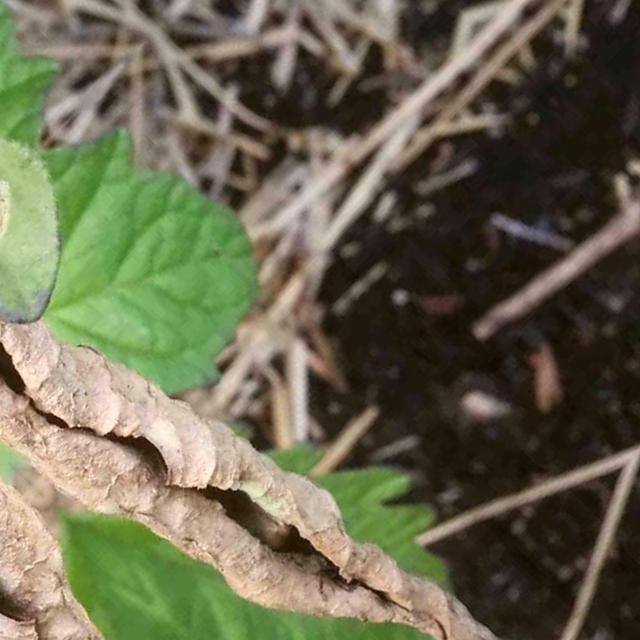Tomato leaf late blight: (0, 110, 536, 640)
